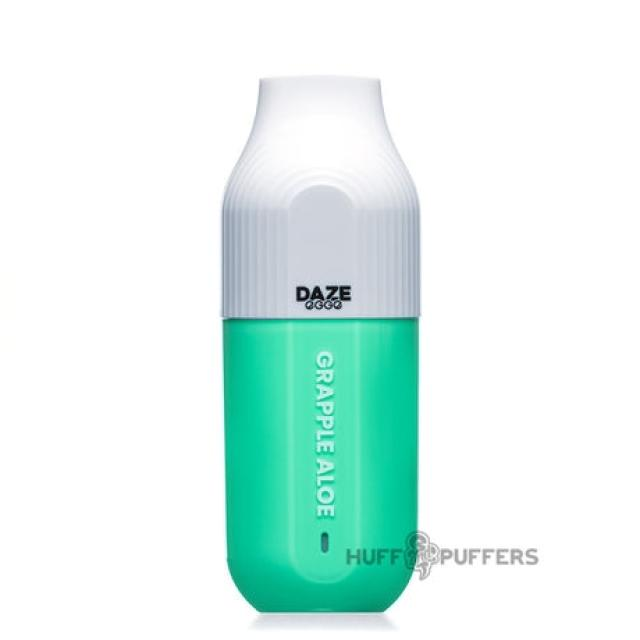Vape-images: (218, 72, 422, 615)
